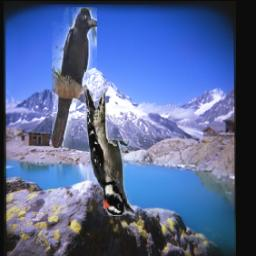Crow: (52, 8, 97, 149)
Woodpecker: (84, 90, 136, 217)
